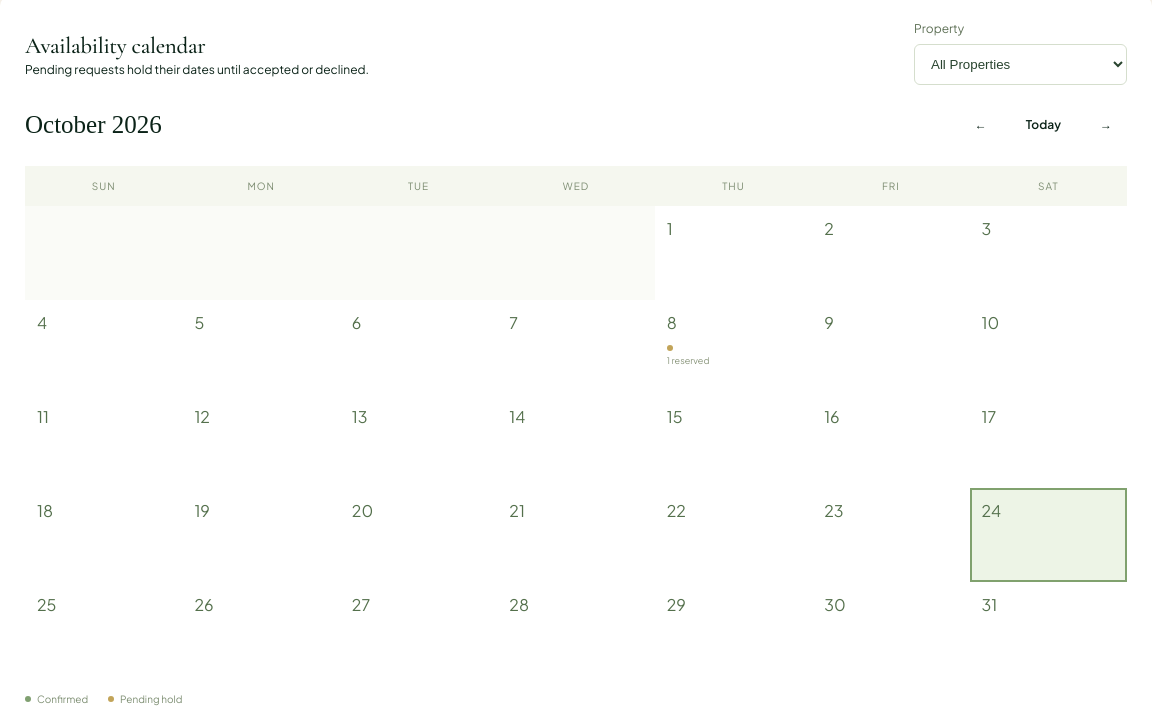
Test case: calendar excludes a checkout at midnight from the following day
Check: the button "9" is shown, box x1=812 y1=300 x2=970 y2=394
Click the button "8 1 reserved": coordinates (733, 347) x1=655 y1=300 x2=812 y2=394
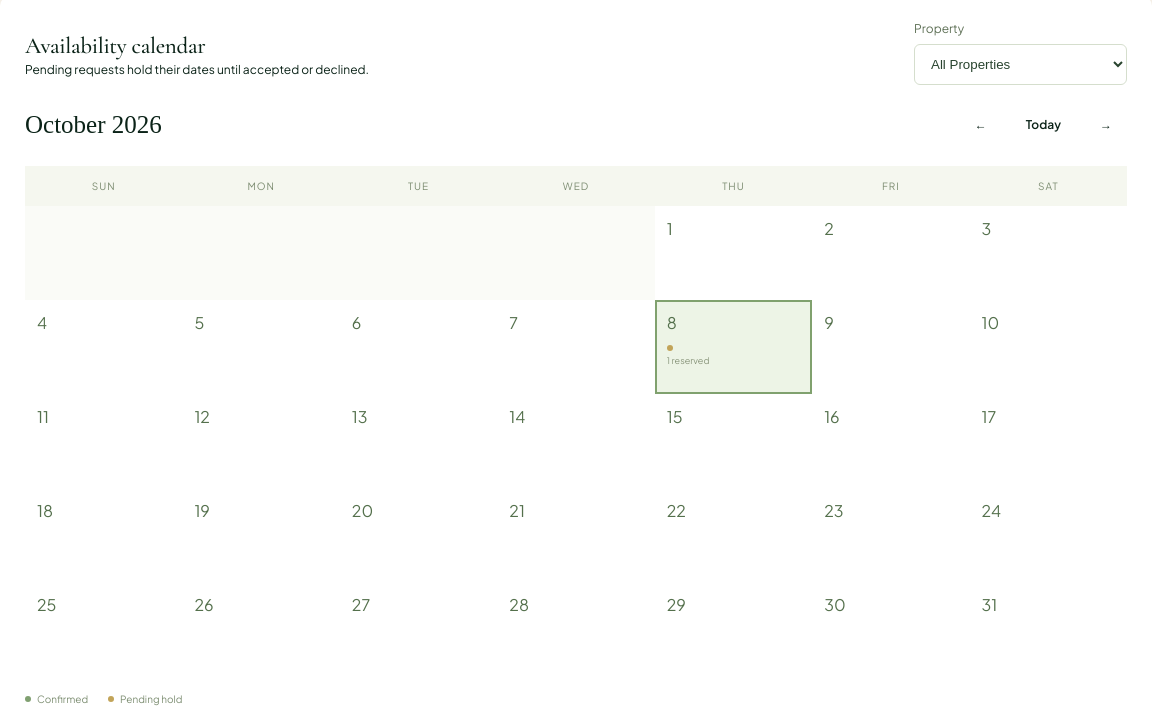
Click the button "9": coordinates (891, 347) x1=812 y1=300 x2=970 y2=394
(page scrolled)
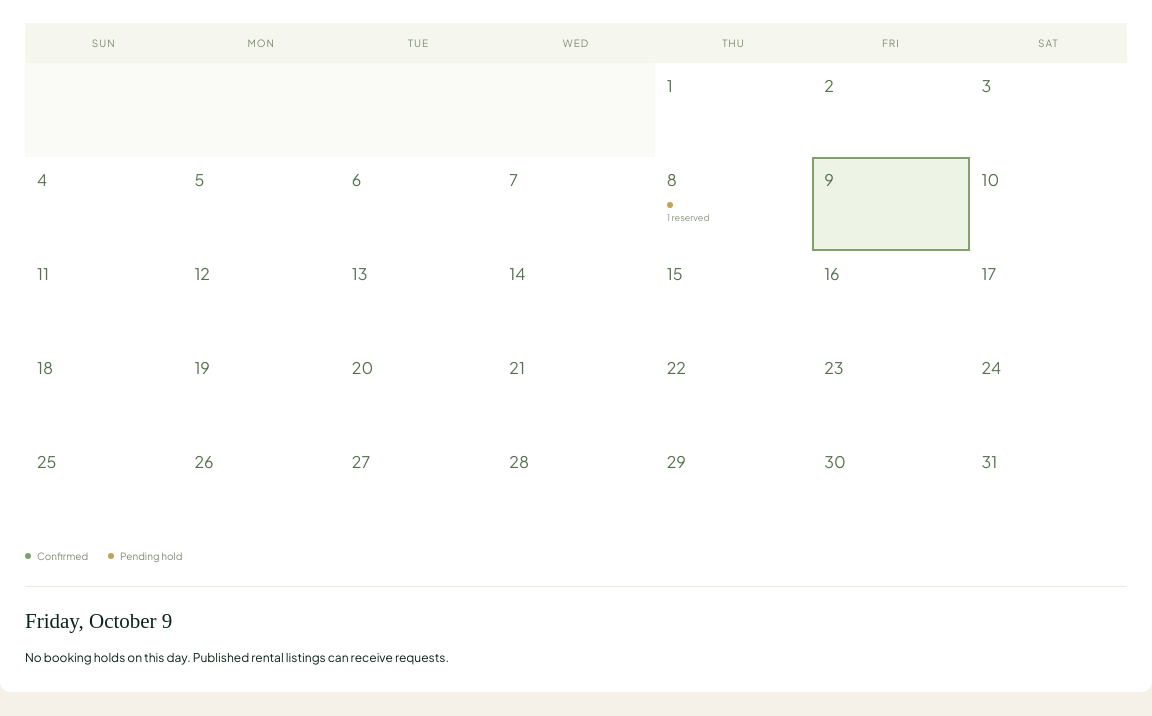
Check: the text "No booking holds on this day" is shown, box x1=25 y1=650 x2=449 y2=665
